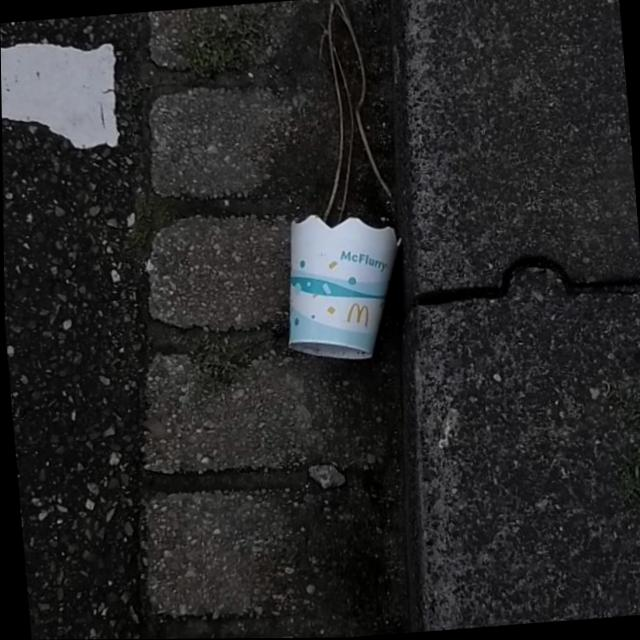Paper: (273, 204, 413, 366)
